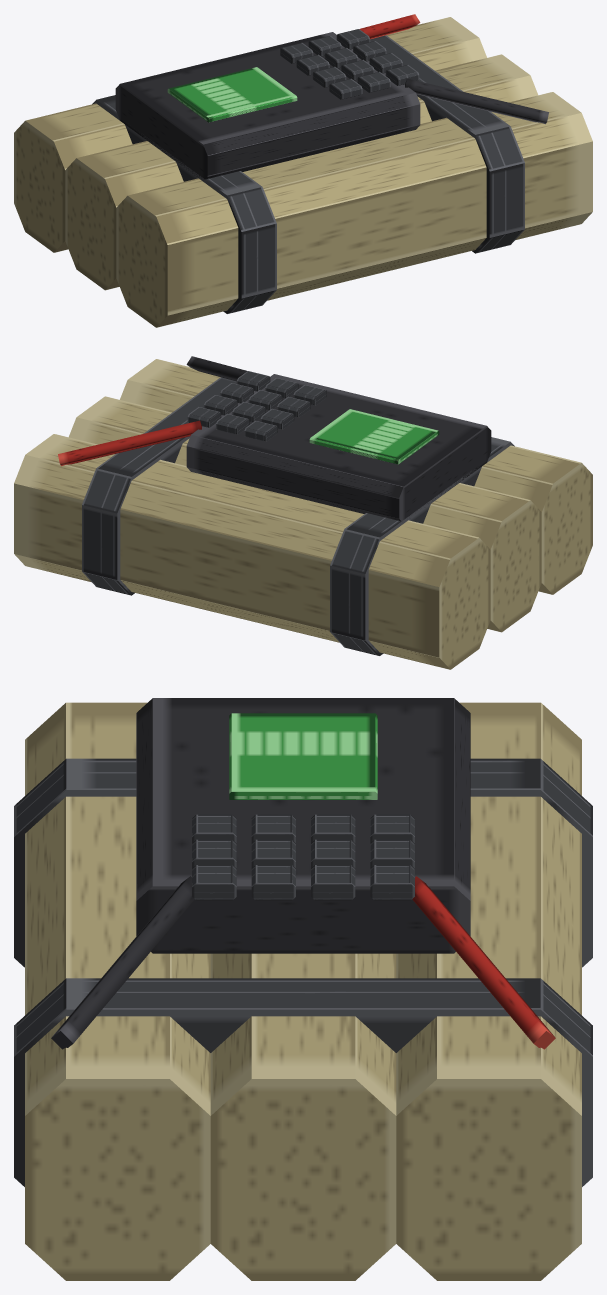
3 views of the same model, one above another, from view 1: azimuth 30°, elevation 25°; view 2: azimuth 150°, elevation 25°; view 3: azimuth 270°, elevation 25° (orthographic). The views are drawn at different scales.
Parts seen in each view (by area): view 1: C4_1P; view 2: C4_1P; view 3: C4_1P.
Boxes of the visible parts, bbox=[...] form: C4_1P: bbox=[14, 14, 592, 327]; C4_1P: bbox=[14, 356, 592, 669]; C4_1P: bbox=[14, 698, 592, 1280].
Bounding box in the file's own units: 0.24 × 0.0865 × 0.156.
Materials: 1 (1 with a texture image).
